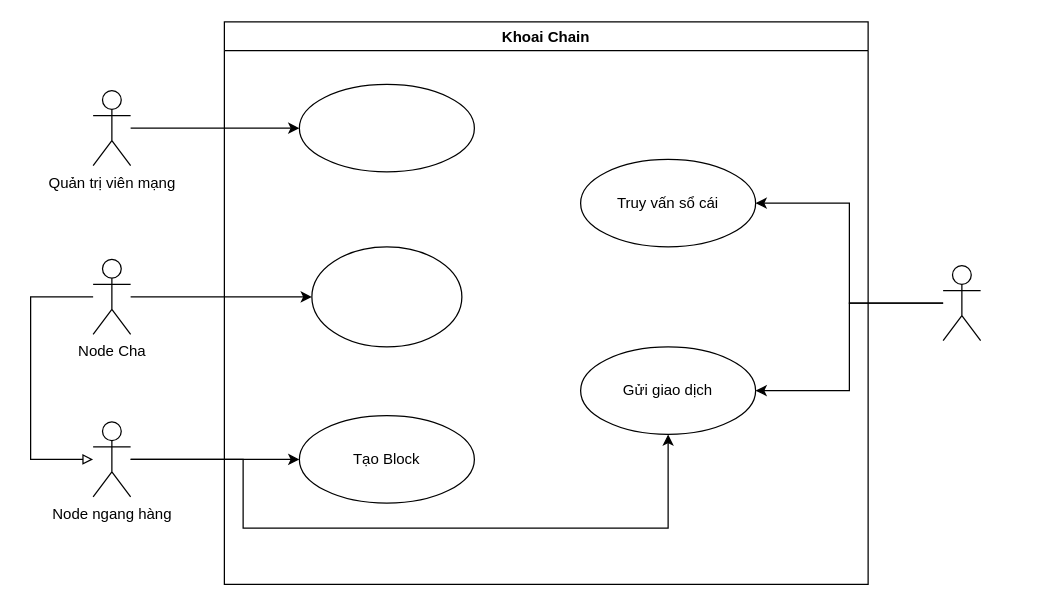
The diagram is 1039 pixels wide and 606 high, and some of its shapes have lost their labels. The shapes that lost their labels are listed below. From the top down, each one's centre as x and y in pixels, then its label:
point (386, 127): Khởi tạo mạng lưới
point (386, 296): Tạo Node mới
point (961, 302): Ứng dụng Client
